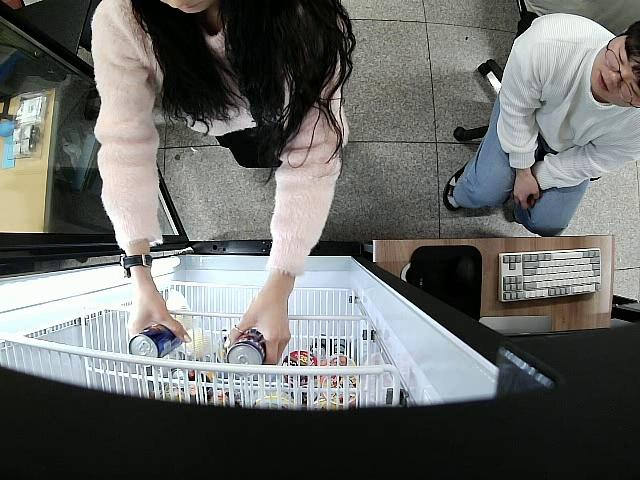00_hand: (225, 300, 291, 365), (128, 294, 192, 345), (514, 167, 541, 210)
16_hot6: (127, 324, 180, 358), (225, 329, 269, 365)
